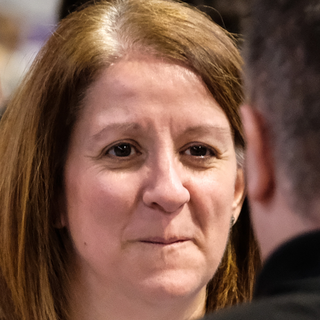eye: (99, 138, 146, 164), (176, 139, 220, 165)
